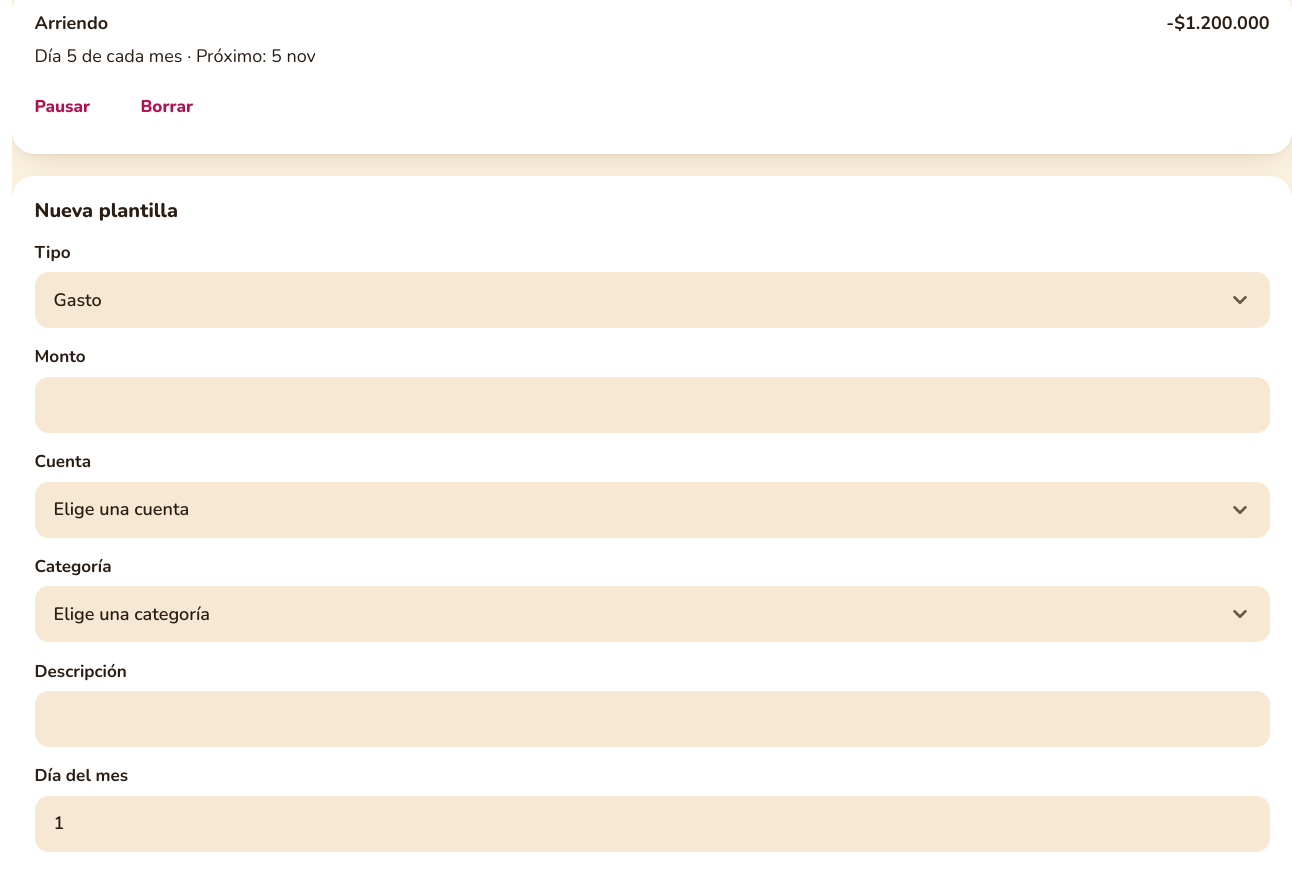
RecurringManager › shows server errors and keeps the form
Type "1000" into the field labelled "Monto" at (652, 405), box [34,377,1270,433]
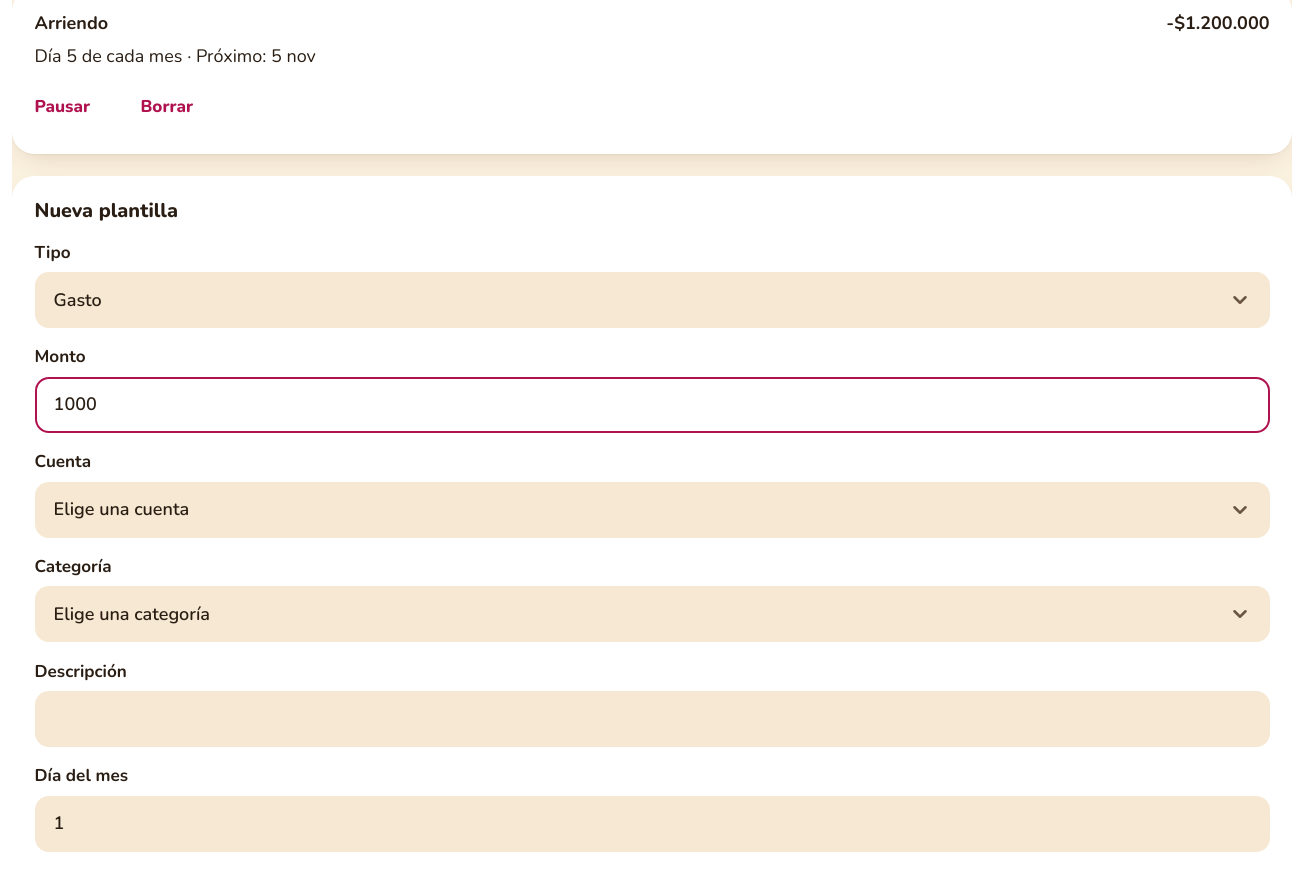
Select "Bancolombia" in the dropdown labelled "Cuenta" at (652, 510), box [34,482,1270,538]
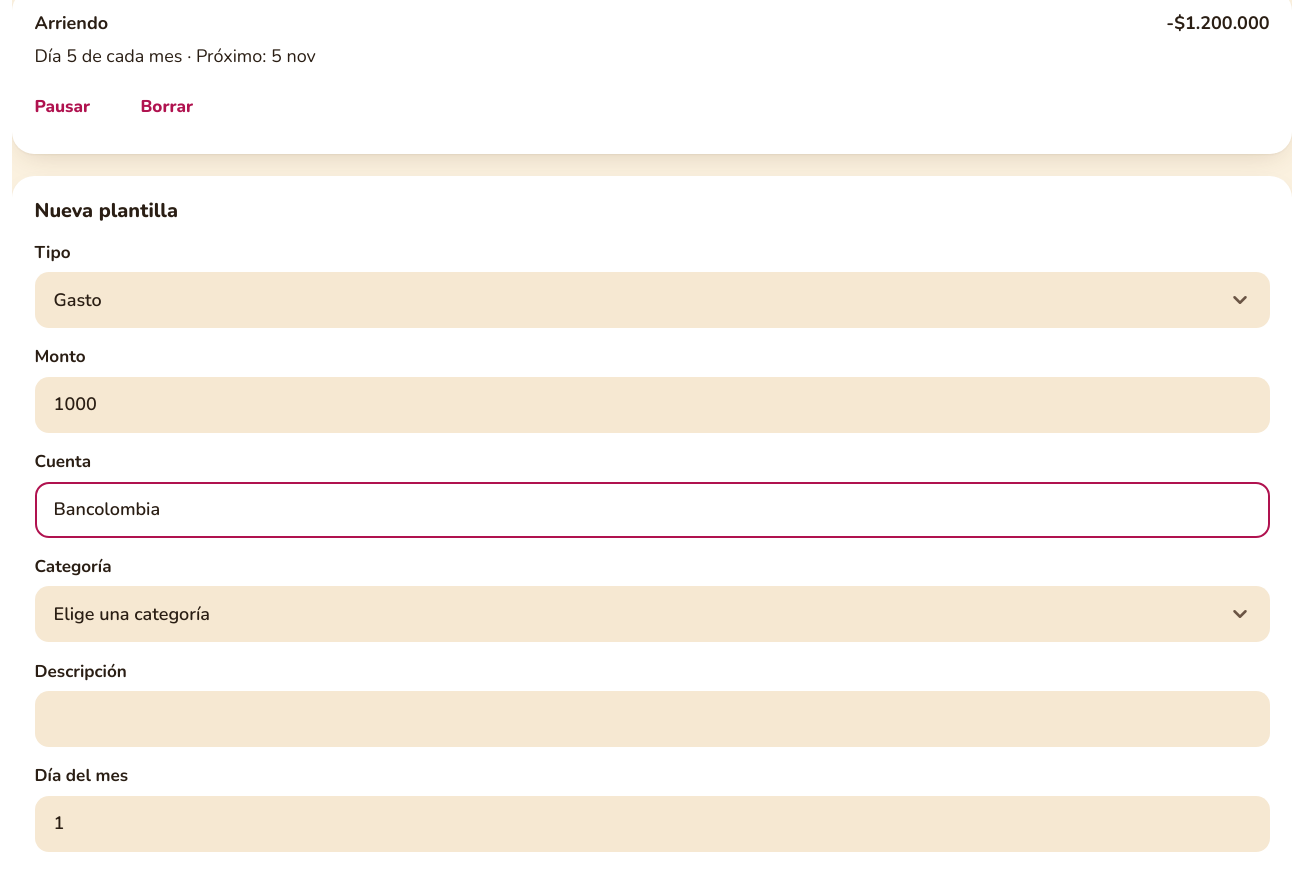
Select "Vivienda" in the dropdown labelled "Categoría" at (652, 614), box [34,586,1270,642]
(page scrolled)
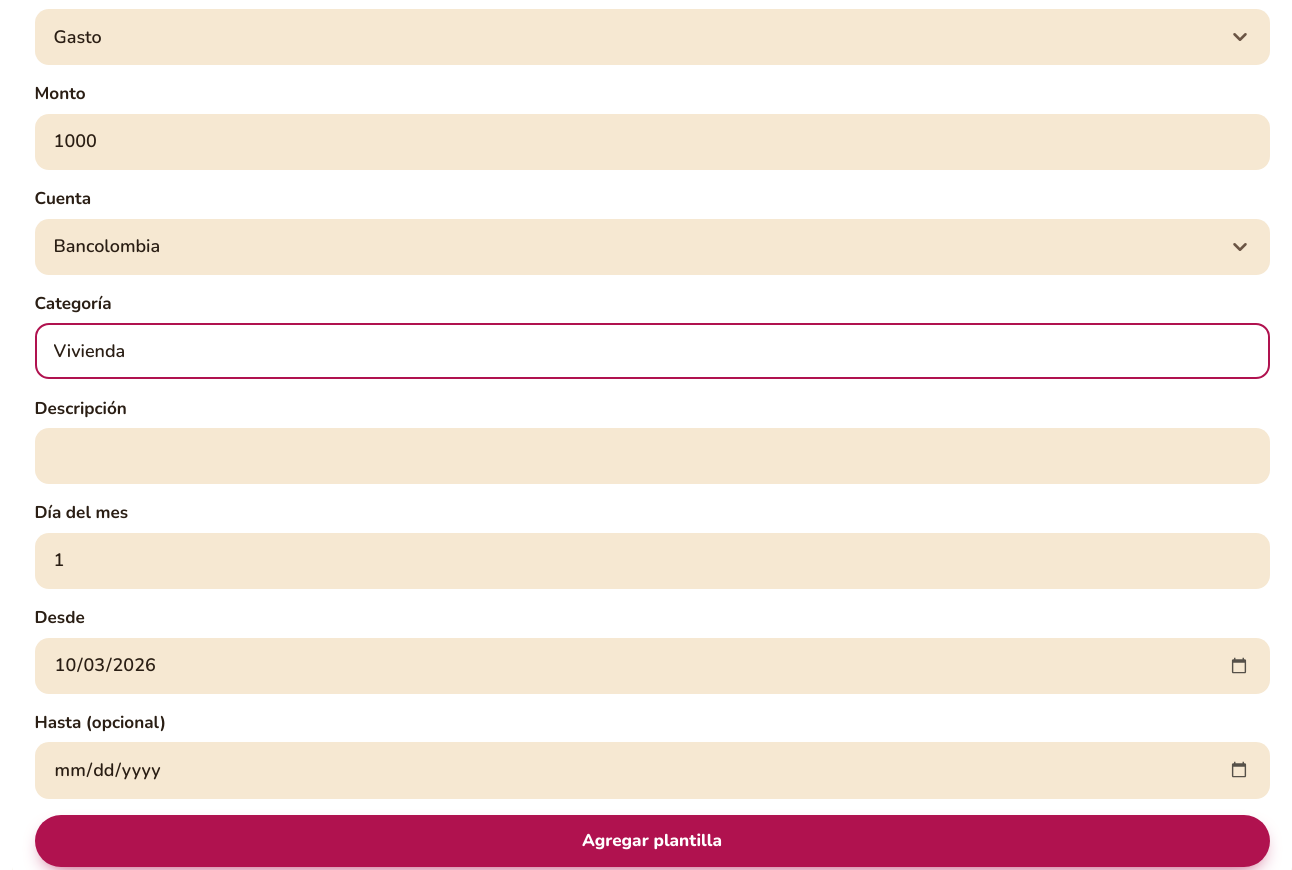
Click the button "Agregar plantilla" at (652, 841), box [34,815,1270,867]
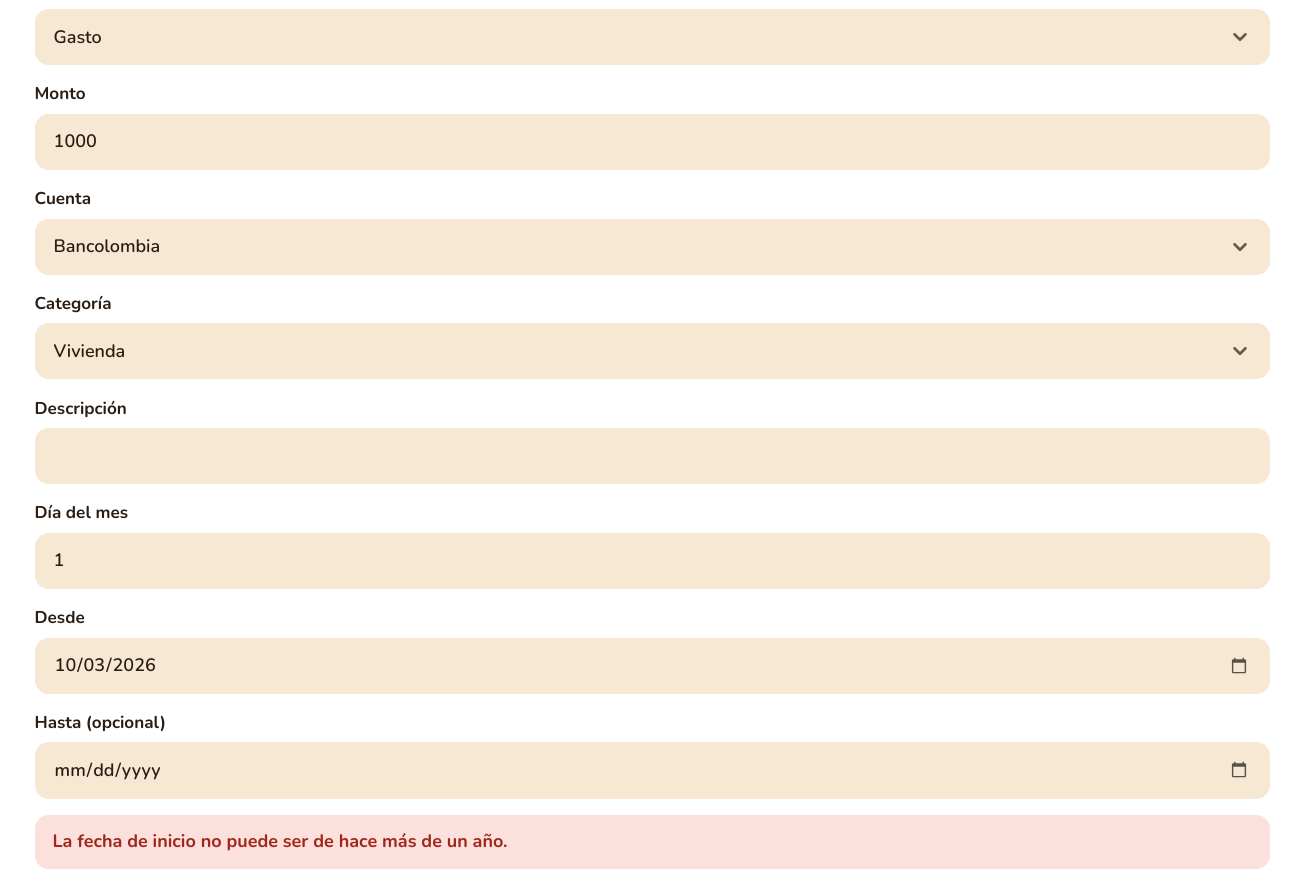
Expected: the message shows "más de un año", [52,829,508,853]
